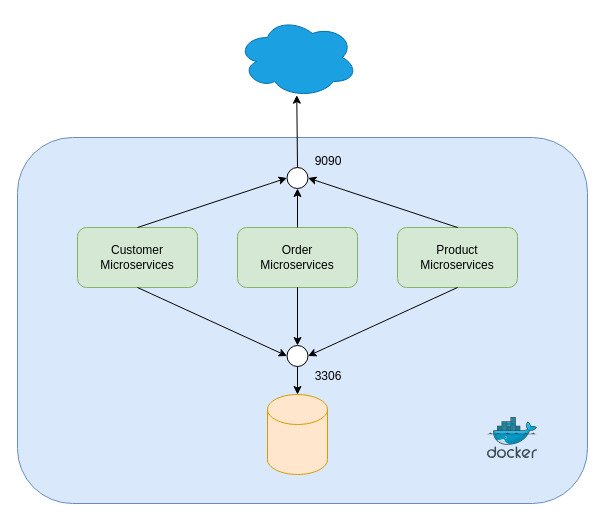
The diagram is 605 pixels wide and 521 high, and some of its shapes have lost their labels. The shapes that lost their labels are listed below. From the top down, each one's centre as x and y in pixels, then its label:
point 297,57: Network
point 297,434: MySql
